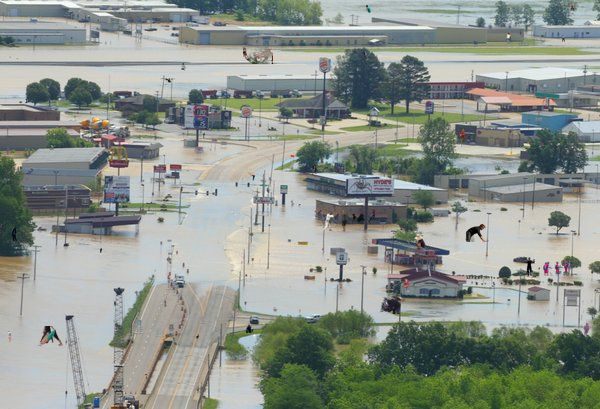Human: (322, 210, 347, 232), (379, 294, 405, 314), (243, 47, 273, 64), (38, 326, 63, 346), (465, 224, 488, 242), (543, 261, 570, 276), (350, 208, 376, 223), (506, 30, 526, 44), (414, 234, 430, 250), (524, 257, 535, 276), (581, 322, 590, 342), (457, 128, 466, 147), (362, 50, 375, 62), (402, 277, 410, 292), (171, 63, 186, 71), (11, 227, 18, 243), (246, 324, 255, 333), (364, 239, 376, 245), (310, 165, 317, 175), (363, 5, 371, 13), (568, 3, 574, 12), (249, 173, 255, 181), (8, 331, 12, 342), (193, 333, 199, 340), (23, 98, 30, 103), (165, 78, 171, 83), (561, 35, 565, 42), (539, 84, 542, 88), (114, 301, 116, 306), (520, 271, 522, 276), (203, 133, 205, 138), (589, 312, 591, 317), (100, 248, 102, 253), (145, 374, 147, 379)
